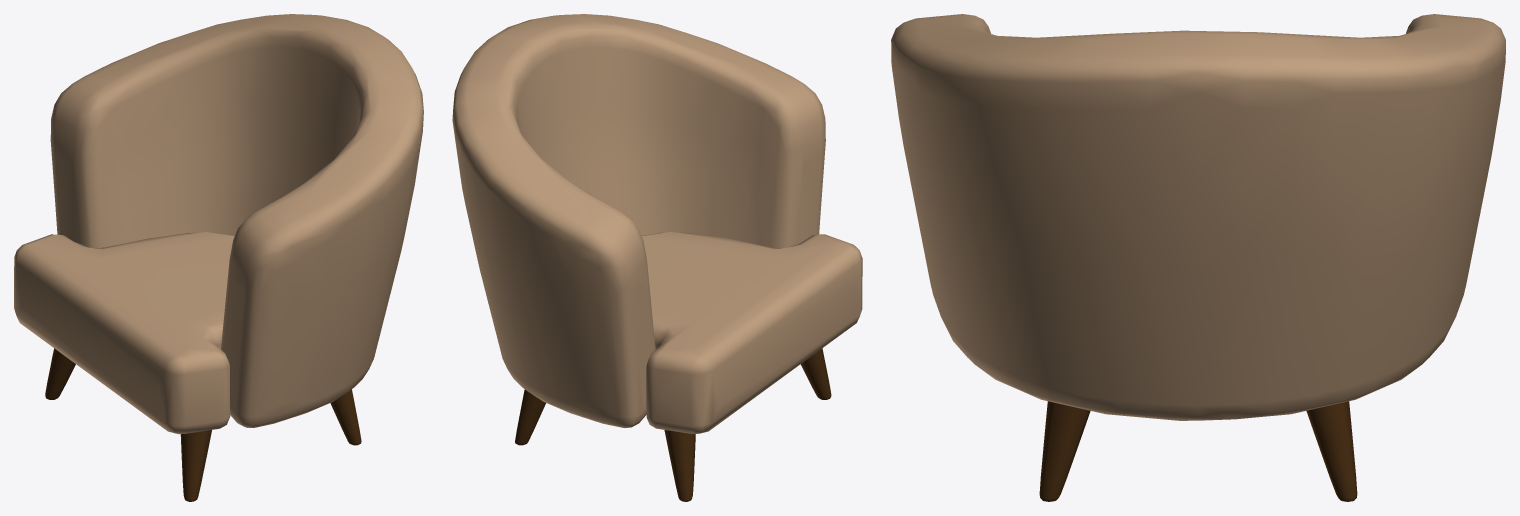
Rendered from armchair_07_light_brown.fbx.
The picture shows the model from 3 angles, left to right: view 1: azimuth 30°, elevation 25°; view 2: azimuth 150°, elevation 25°; view 3: azimuth 270°, elevation 25°; orthographic projection. The views are drawn at different scales.
Parts seen in each view (by area): view 1: armchair_07_light_brown; view 2: armchair_07_light_brown; view 3: armchair_07_light_brown.
Boxes of the visible parts, left/top/right/bottom form: armchair_07_light_brown: left=14, top=14, right=423, bottom=501; armchair_07_light_brown: left=452, top=14, right=862, bottom=501; armchair_07_light_brown: left=891, top=14, right=1505, bottom=501.
Size of the model in its own units: 102 by 114 by 128.
Materials: 2 (2 with a texture image).
